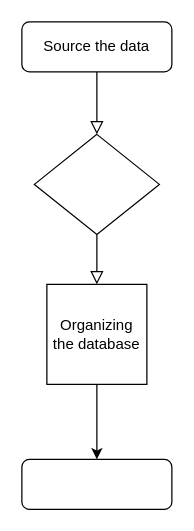
Image size: 194x531. Some labels were removed from this diagram. Here are the shapes that lost their labels. From the top down, the box of each, then its label:
(33, 133, 159, 234): Cleaning data
(21, 458, 172, 509): Coding for data visualization
